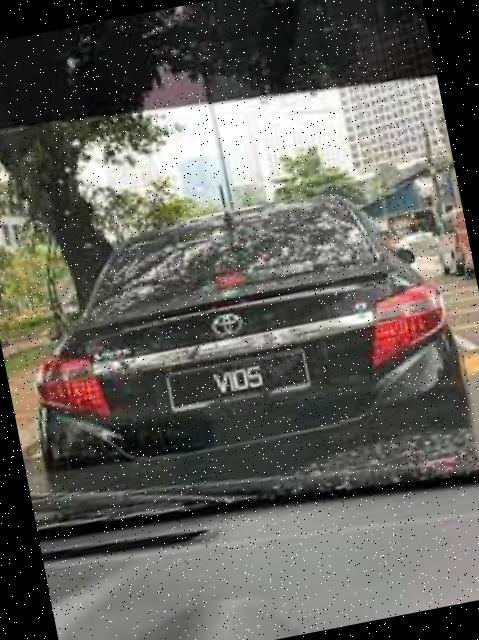License_Plate: (148, 336, 349, 427)
car: (1, 165, 479, 541)
